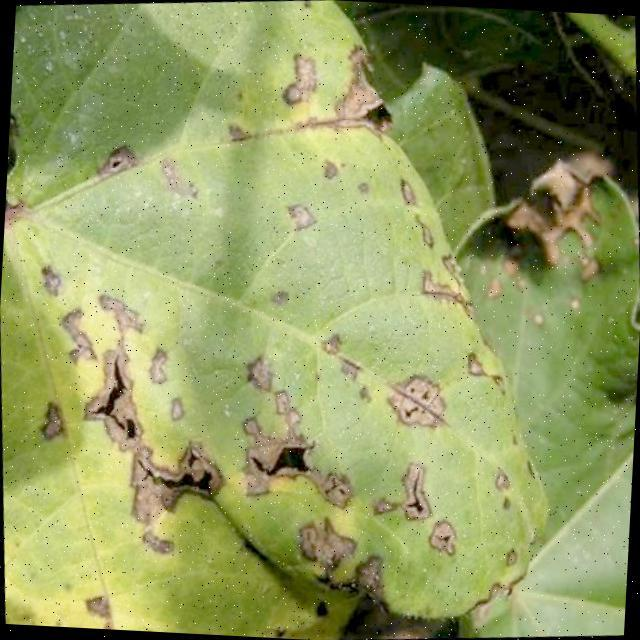Bacterial: (47, 242, 398, 585)
